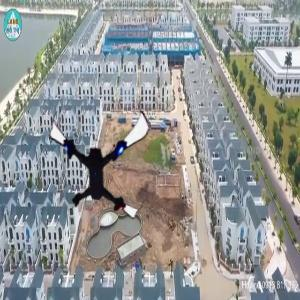drone: (40, 105, 153, 218)
